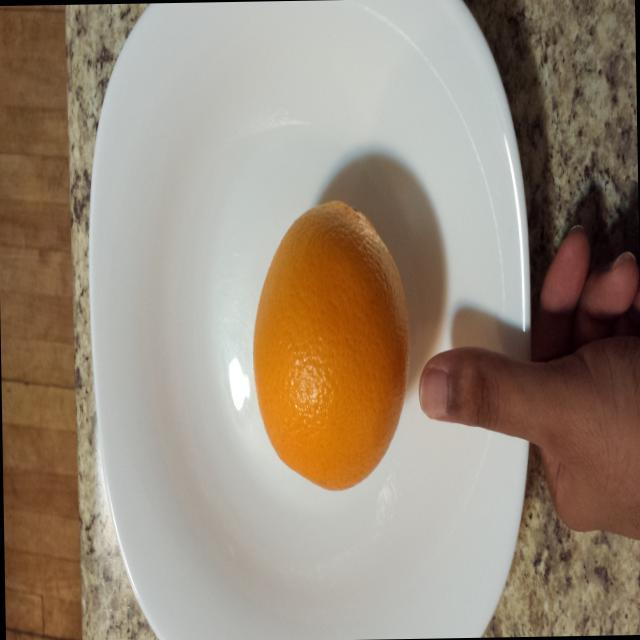Orange: (217, 180, 415, 520)
